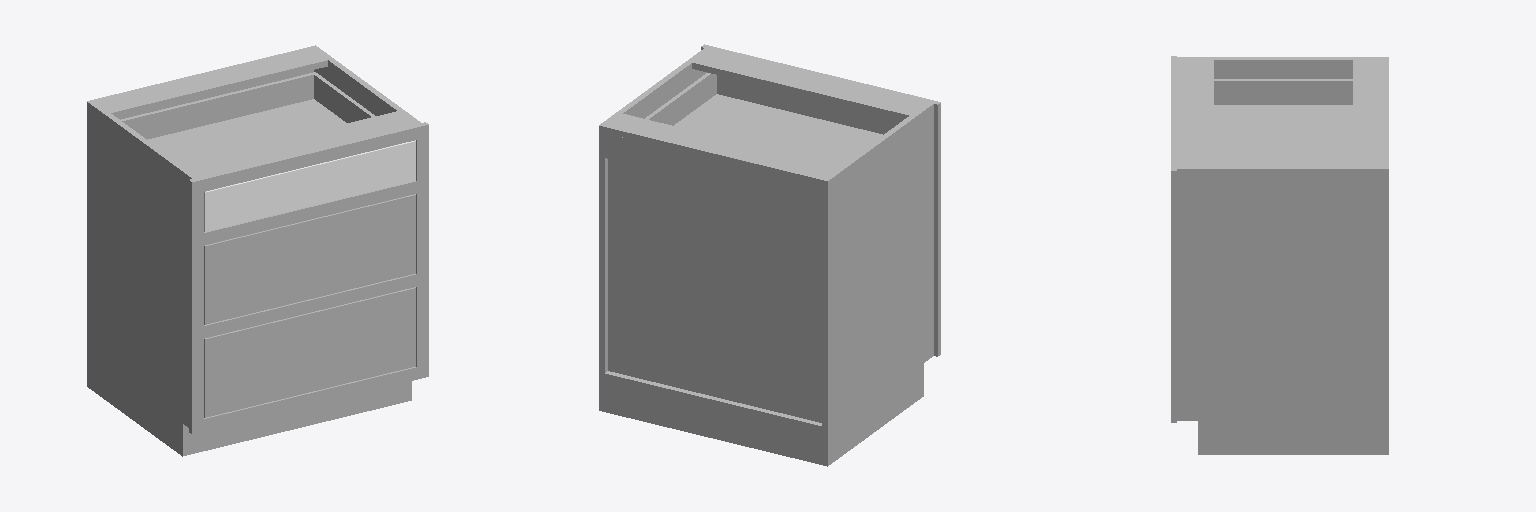
The model's file is drawer-cab.obj.
3 views of the same model, side by side, from view 1: azimuth 30°, elevation 25°; view 2: azimuth 150°, elevation 25°; view 3: azimuth 270°, elevation 25° (orthographic).
Visible parts, largest first — view 1: UEnd__L_, Drawer.001, Drawer, Drawer.002, Drw_Bottom, Rear_Stretcher, Drw_Back, Front_Toe, Front_Stretcher, LS, TR, RS (+5 smaller); view 2: UBack, UEnd__L_, Back_Toe, Drw_Bottom, Nailer, Rear_Stretcher, Front_Stretcher, UEnd__R_, Drw_Front, LS, Drw_R_Side.001, TR; view 3: UEnd__R_, Drw_Bottom, Front_Stretcher, Rear_Stretcher, Drw_L_Side.001, UEnd__L_, RS, TR.
Part boxes in pixels (bbox=[...]): UEnd__L_: bbox=[87, 100, 197, 456]; Drawer.001: bbox=[204, 194, 415, 324]; Drawer: bbox=[204, 287, 415, 417]; Drawer.002: bbox=[204, 140, 415, 231]; Drw_Bottom: bbox=[148, 99, 346, 163]; Rear_Stretcher: bbox=[94, 47, 327, 117]; Drw_Back: bbox=[121, 72, 317, 139]; Front_Toe: bbox=[188, 382, 405, 454]; Front_Stretcher: bbox=[180, 111, 415, 177]; LS: bbox=[189, 177, 203, 433]; TR: bbox=[201, 125, 416, 191]; RS: bbox=[415, 122, 428, 379]; UBack: bbox=[608, 159, 821, 422]; UEnd__L_: bbox=[822, 102, 933, 466]; Back_Toe: bbox=[605, 371, 821, 464]; Drw_Bottom: bbox=[674, 94, 882, 165]; Nailer: bbox=[605, 133, 821, 210]; Rear_Stretcher: bbox=[604, 114, 840, 185]; Front_Stretcher: bbox=[691, 49, 927, 119]; UEnd__R_: bbox=[599, 48, 709, 411]; Drw_Front: bbox=[717, 75, 902, 134]; LS: bbox=[926, 99, 940, 356]; Drw_R_Side.001: bbox=[645, 73, 716, 125]; TR: bbox=[713, 47, 928, 101]; UEnd__R_: bbox=[1177, 166, 1388, 454]; Drw_Bottom: bbox=[1214, 105, 1352, 165]; Front_Stretcher: bbox=[1177, 59, 1213, 166]; Rear_Stretcher: bbox=[1353, 59, 1388, 166]; Drw_L_Side.001: bbox=[1214, 79, 1352, 104]; UEnd__L_: bbox=[1177, 57, 1388, 78]; RS: bbox=[1171, 165, 1176, 422]; TR: bbox=[1171, 61, 1176, 164].
Bounding box in the file's own units: 0.762 × 0.8763 × 0.6097.